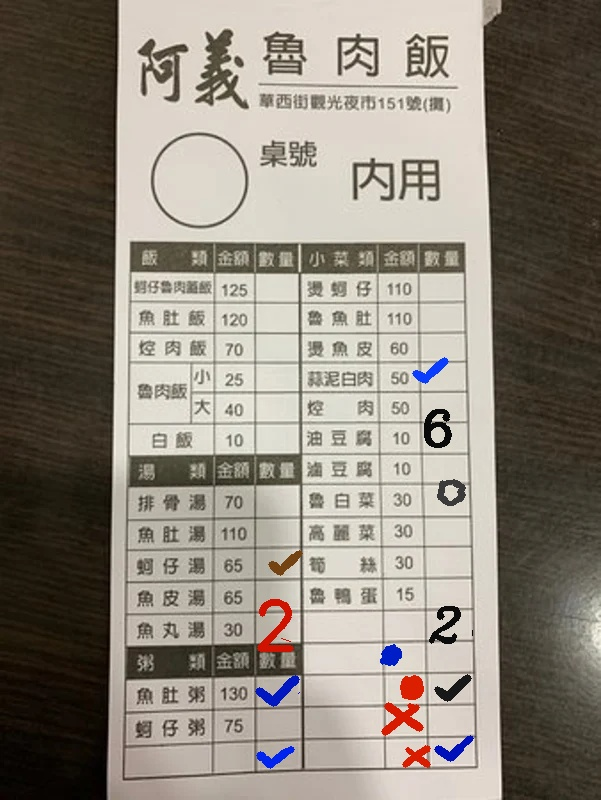marked_circle: (382, 642, 425, 670), (382, 674, 425, 702)
marked_hollow: (426, 486, 469, 514)
marked_number_2: (429, 612, 472, 640), (258, 613, 301, 641)
marked_number_6: (422, 422, 465, 450)
marked_tick: (258, 550, 301, 578), (421, 361, 464, 389), (259, 741, 302, 769), (429, 673, 472, 701), (256, 678, 299, 706), (431, 734, 474, 762)
marked_x: (384, 735, 427, 763), (384, 705, 427, 733)
